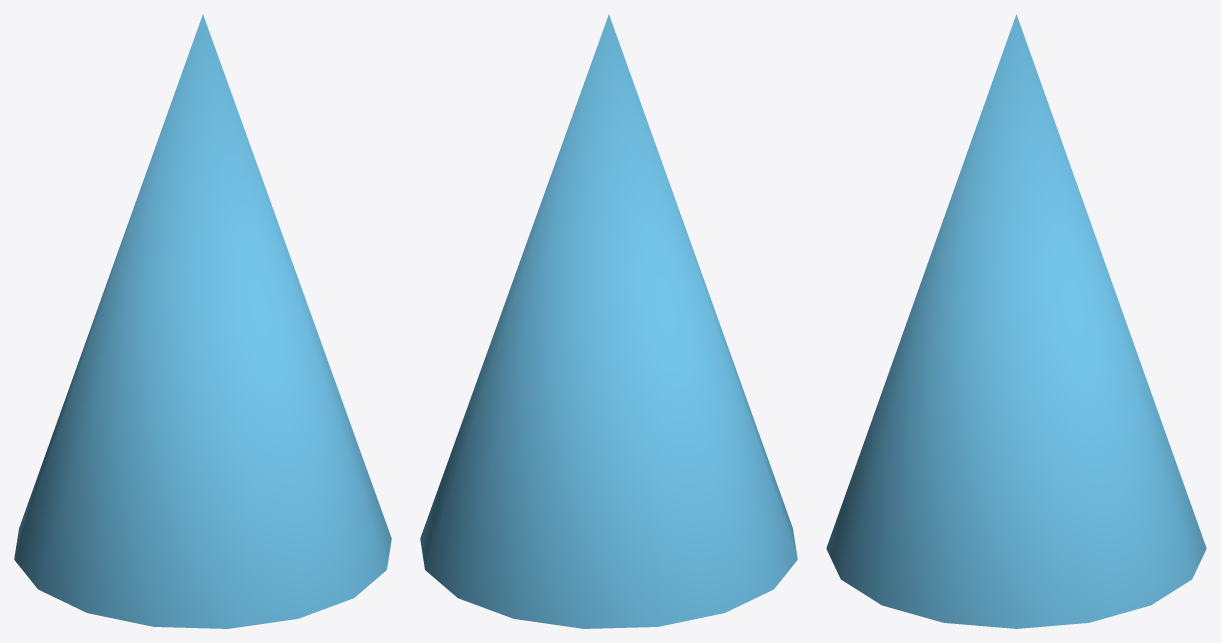
The model's file is OBS_Thorn.fbx.
The picture shows the model from 3 angles, left to right: view 1: azimuth 30°, elevation 25°; view 2: azimuth 150°, elevation 25°; view 3: azimuth 270°, elevation 25°; orthographic projection.
Parts seen in each view (by area): view 1: OBS_Torn; view 2: OBS_Torn; view 3: OBS_Torn.
Part boxes in pixels (x1,y1,x2,y2): OBS_Torn: (14, 14, 391, 628); OBS_Torn: (420, 14, 797, 628); OBS_Torn: (826, 14, 1206, 628).
Bounding box in the file's own units: 25.45 × 39.45 × 25.45.
